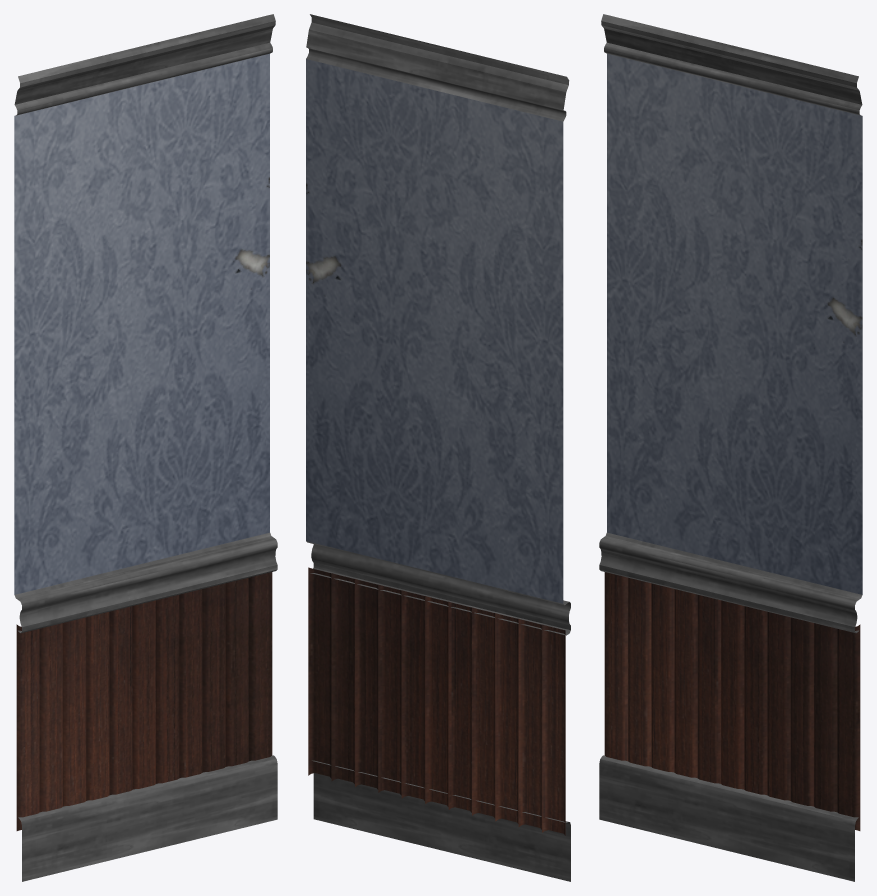
The model's file is Mod_Wall_1x3_High.fbx.
3 renders of one model, left to right at view 1: azimuth 30°, elevation 25°; view 2: azimuth 150°, elevation 25°; view 3: azimuth 330°, elevation 25°, orthographic.
Parts seen in each view (by area): view 1: Mod_Wall_1x3_High; view 2: Mod_Wall_1x3_High; view 3: Mod_Wall_1x3_High.
Boxes of the visible parts, <box> form: Mod_Wall_1x3_High: <box>14,14,277,881</box>; Mod_Wall_1x3_High: <box>306,14,570,881</box>; Mod_Wall_1x3_High: <box>599,14,862,881</box>.
Size of the model in its own units: 100 by 300 by 5.
Materials: 1 (1 with a texture image).
